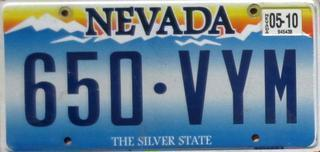placa de veiculo: (1, 2, 297, 149)
